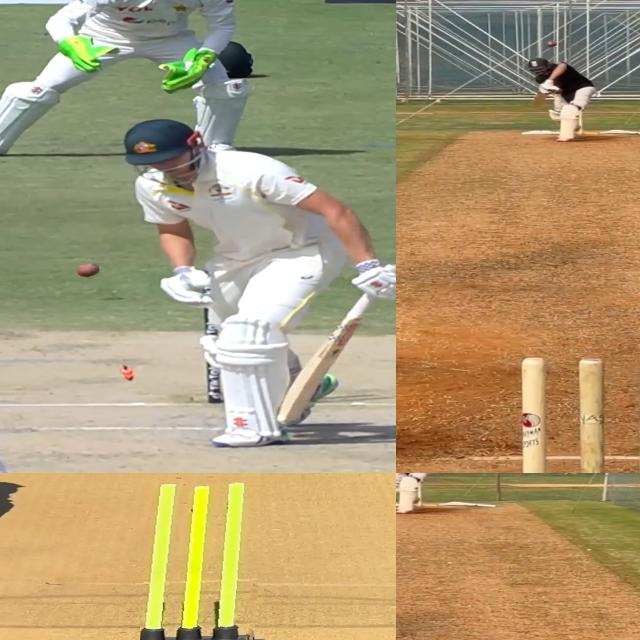Cricket ball: (77, 264, 103, 280), (546, 41, 558, 47)
Stumps: (140, 482, 269, 640), (520, 356, 640, 473)
